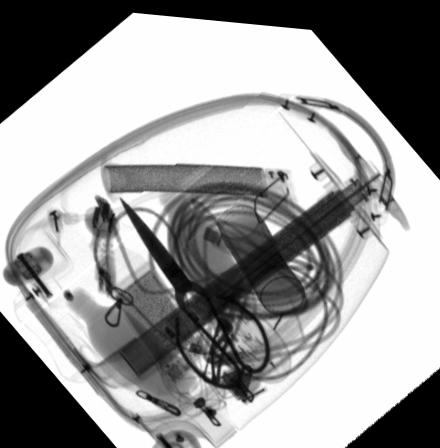Knife: (203, 266, 246, 379)
Powerbank: (108, 254, 213, 381)
Scissors: (114, 191, 270, 385)
